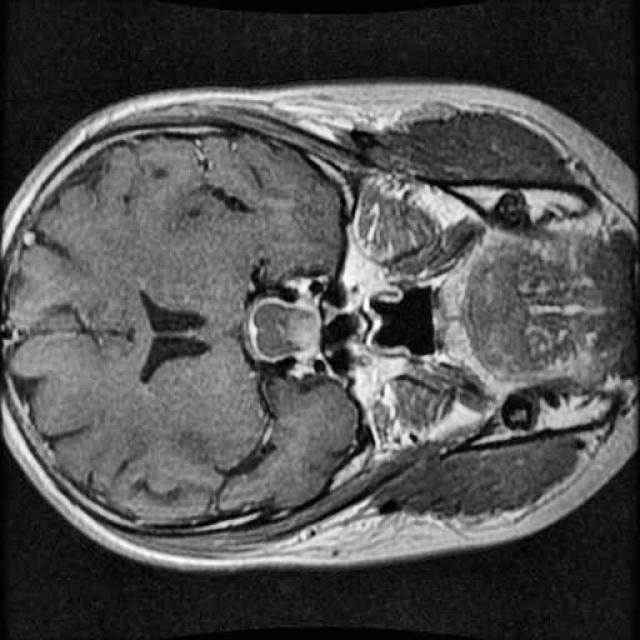Tumor: (231, 289, 330, 370)
